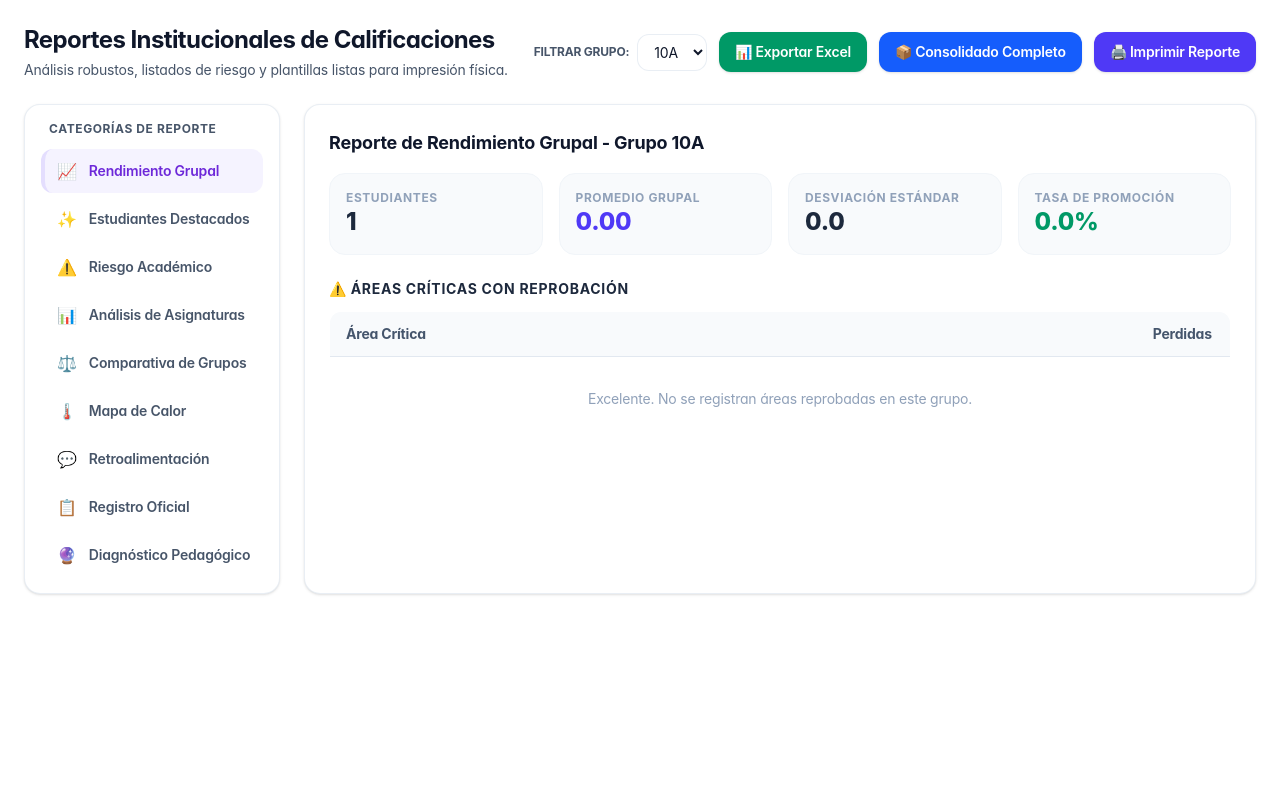
Test: ReportsTab — Insights Wiring (PR 3) › Tab navigation › shows InsightsTab empty state when no archetypes are detected
# Click "Diagnóstico Pedagógico"
Click the button "🔮 Diagnóstico Pedagógico". click: click(152, 555)
box: [41,533,263,577]
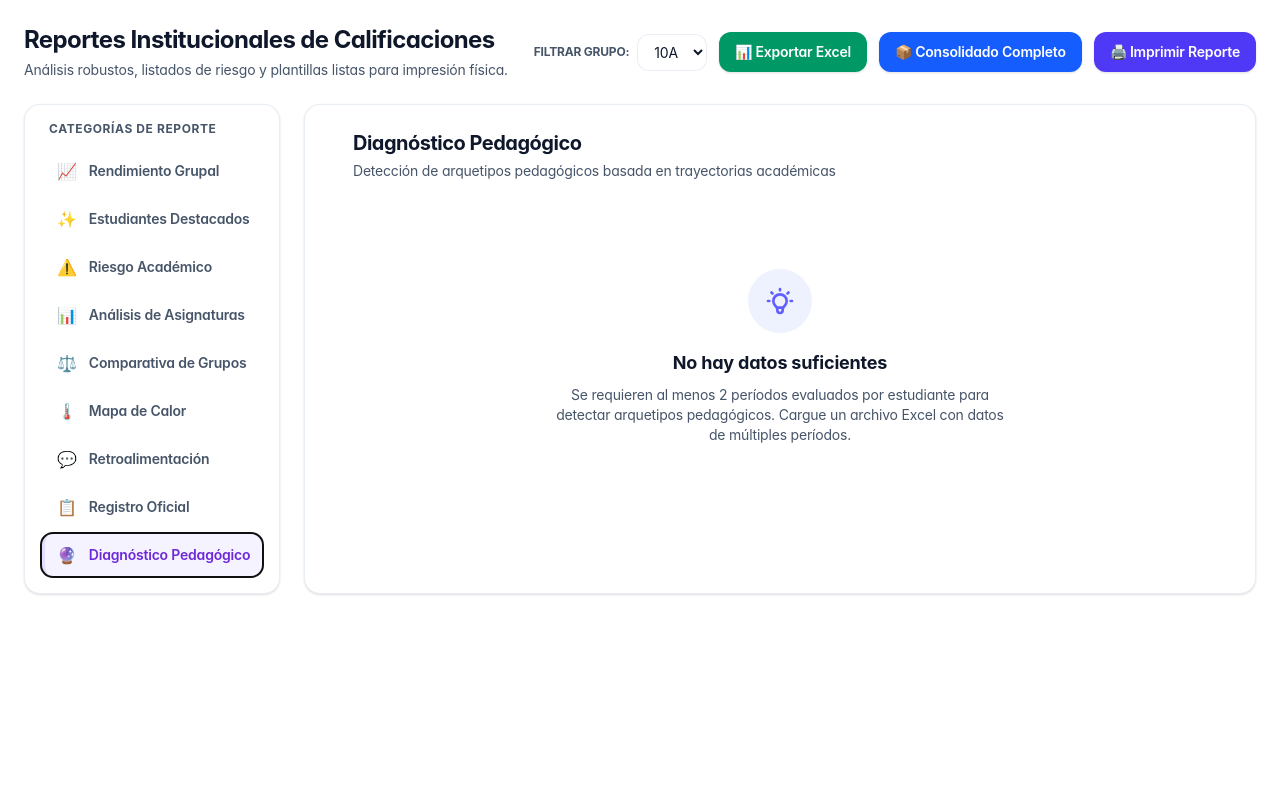
Expected: the heading "Diagnóstico Pedagógico" is shown, [353,131,582,155]
Expected: the heading "No hay datos suficientes" is shown, [673,349,887,377]
